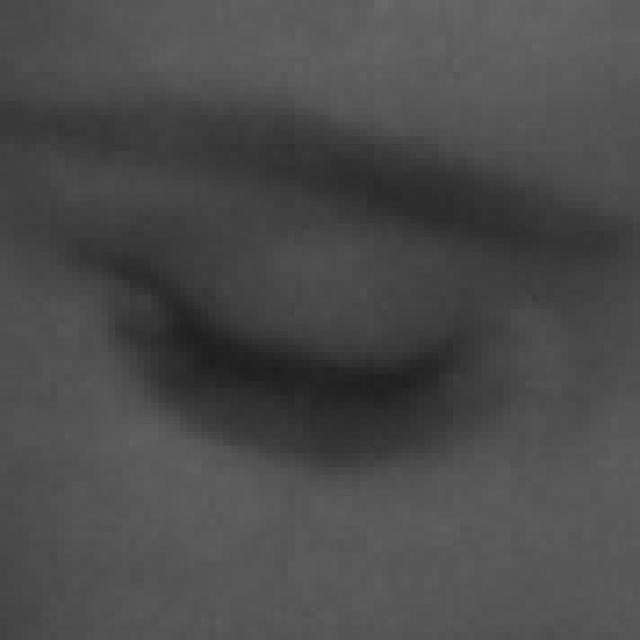Eyeclosed: (113, 192, 484, 533)
